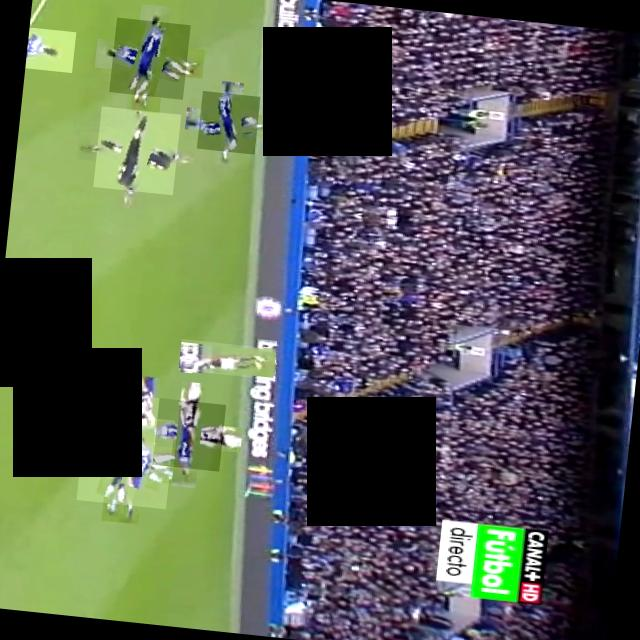referee: (92, 105, 180, 194)
soccer-player: (76, 410, 175, 508), (109, 16, 190, 98), (104, 392, 180, 466), (152, 396, 226, 471), (196, 90, 260, 154), (178, 338, 277, 378), (0, 331, 70, 386), (25, 26, 76, 72)
